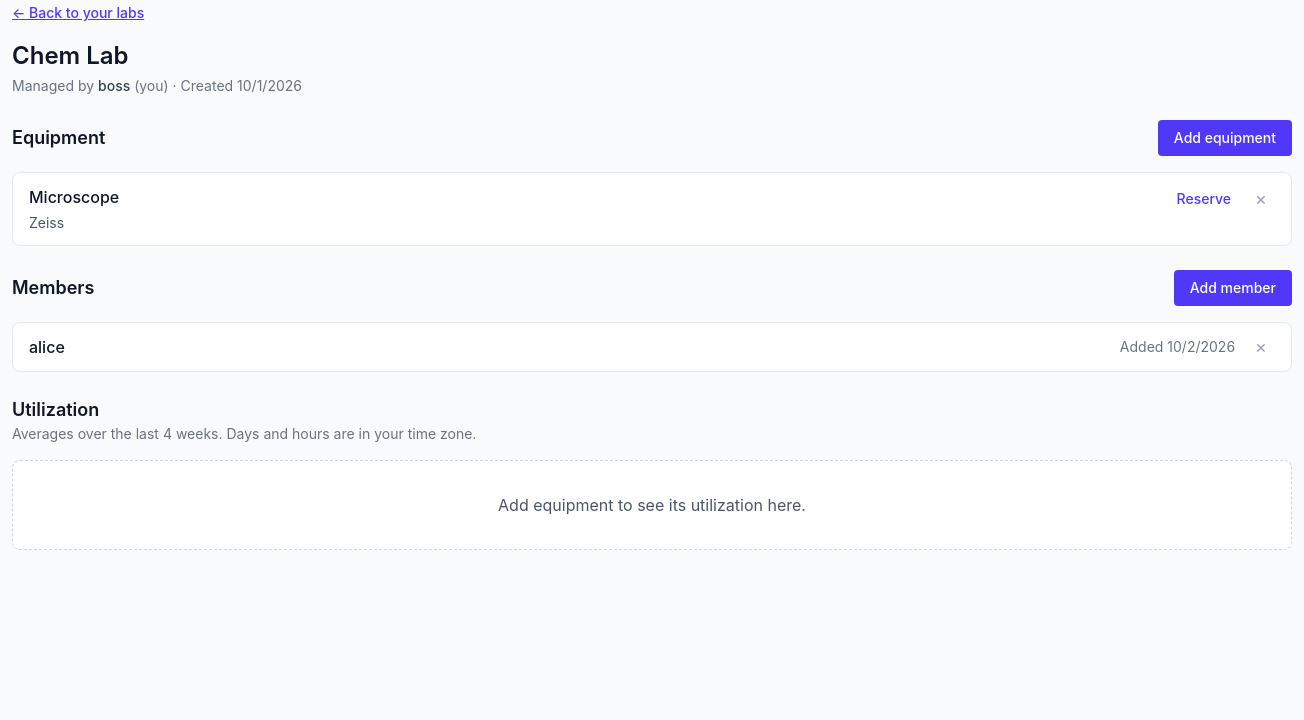
Test: equipment › removes equipment after the manager confirms
The width and height of the screenshot is (1304, 720).
Click the button named "Remove Microscope": (1261, 199) top-left (1247, 188), bottom-right (1275, 210)
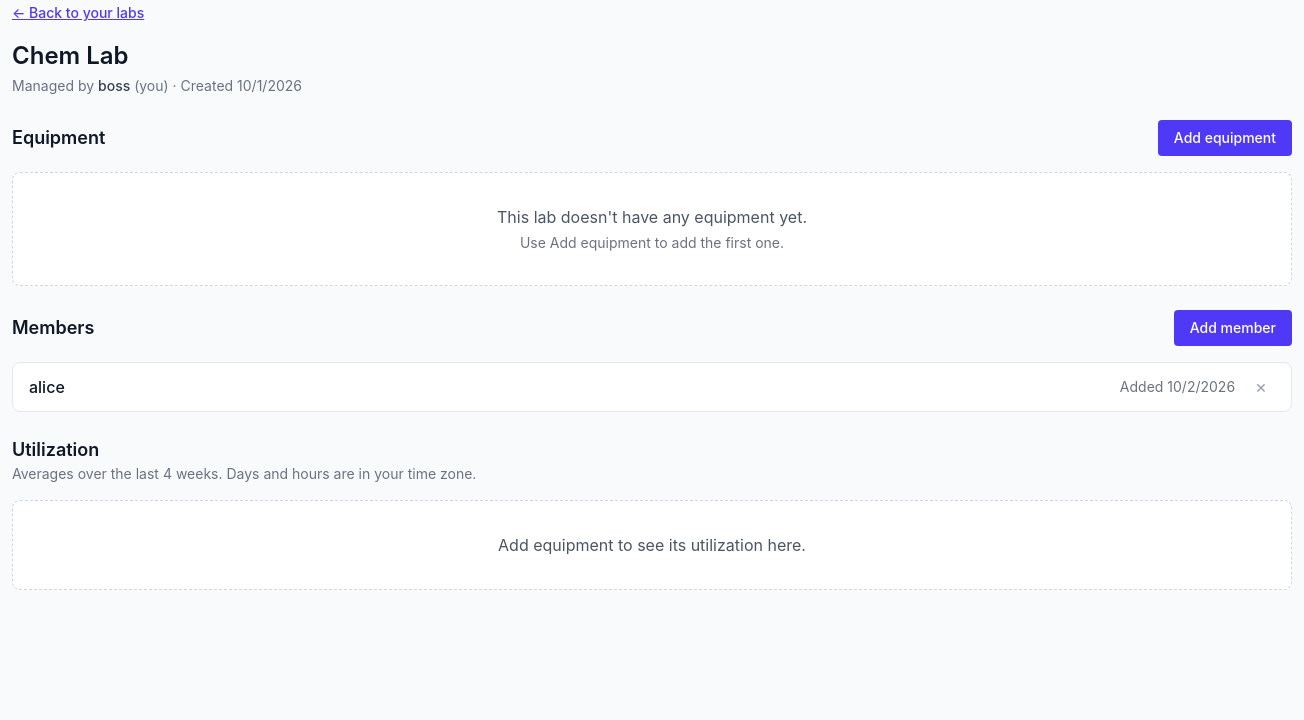
Expected: the text "Zeiss" is gone
